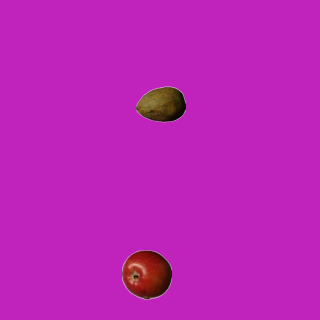Apple Braeburn: (121, 249, 171, 299)
Papaya: (135, 79, 185, 129)
